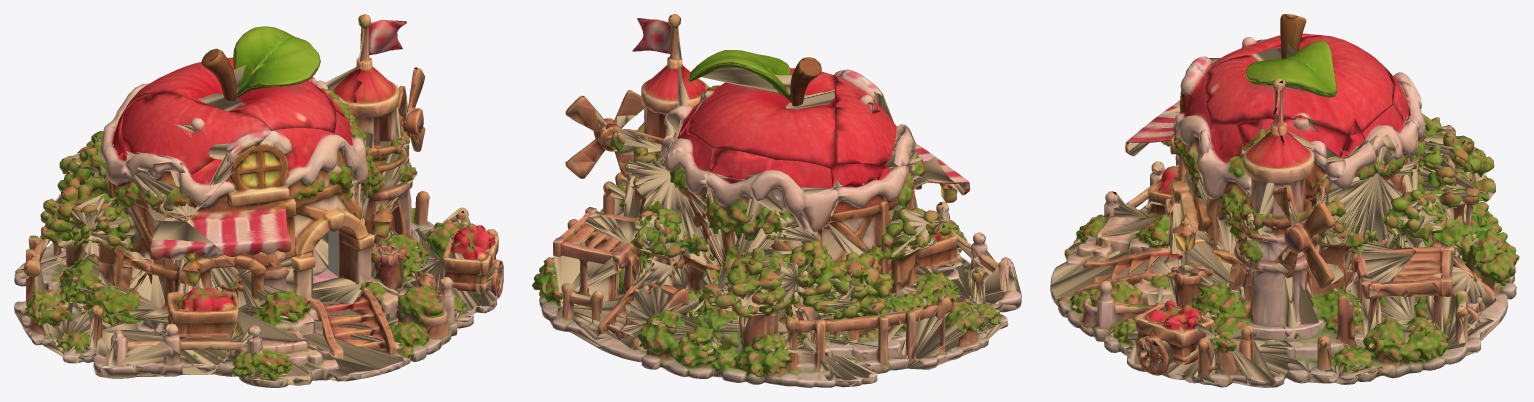
Rendered from HOB_BLD_AppleWorkshop_Fractured.fbx.
3 views of the same model, side by side, from view 1: azimuth 30°, elevation 25°; view 2: azimuth 150°, elevation 25°; view 3: azimuth 270°, elevation 25° (orthographic). The views are drawn at different scales.
Parts seen in each view (by area): view 1: HOB_BLD_AppleWorkshop_Frag_18, HOB_BLD_AppleWorkshop_Frag_17, HOB_BLD_AppleWorkshop_Frag_14, HOB_BLD_AppleWorkshop_Frag_07, HOB_BLD_AppleWorkshop_Frag_10, HOB_BLD_AppleWorkshop_Frag_15, HOB_BLD_AppleWorkshop_Frag_12, HOB_BLD_AppleWorkshop_Frag_23, HOB_BLD_AppleWorkshop_Frag_09, HOB_BLD_AppleWorkshop_Frag_29, HOB_BLD_AppleWorkshop_Frag_24, HOB_BLD_AppleWorkshop_Frag_03 (+8 smaller); view 2: HOB_BLD_AppleWorkshop_Frag_14, HOB_BLD_AppleWorkshop_Frag_01, HOB_BLD_AppleWorkshop_Frag_22, HOB_BLD_AppleWorkshop_Frag_23, HOB_BLD_AppleWorkshop_Frag_12, HOB_BLD_AppleWorkshop_Frag_02, HOB_BLD_AppleWorkshop_Frag_27, HOB_BLD_AppleWorkshop_Frag_21, HOB_BLD_AppleWorkshop_Frag_17, HOB_BLD_AppleWorkshop_Frag_16, HOB_BLD_AppleWorkshop_Frag_13, HOB_BLD_AppleWorkshop_Frag_11 (+9 smaller); view 3: HOB_BLD_AppleWorkshop_Frag_14, HOB_BLD_AppleWorkshop_Frag_12, HOB_BLD_AppleWorkshop_Frag_09, HOB_BLD_AppleWorkshop_Frag_00, HOB_BLD_AppleWorkshop_Frag_20, HOB_BLD_AppleWorkshop_Frag_19, HOB_BLD_AppleWorkshop_Frag_06, HOB_BLD_AppleWorkshop_Frag_08, HOB_BLD_AppleWorkshop_Frag_21, HOB_BLD_AppleWorkshop_Frag_15, HOB_BLD_AppleWorkshop_Frag_02, HOB_BLD_AppleWorkshop_Frag_10 (+12 smaller).
Boxes of the visible parts, x1,y1,x2,y2 form: HOB_BLD_AppleWorkshop_Frag_18: [187, 128, 345, 270]; HOB_BLD_AppleWorkshop_Frag_17: [121, 92, 272, 221]; HOB_BLD_AppleWorkshop_Frag_14: [123, 26, 336, 132]; HOB_BLD_AppleWorkshop_Frag_07: [144, 221, 243, 374]; HOB_BLD_AppleWorkshop_Frag_10: [236, 250, 402, 374]; HOB_BLD_AppleWorkshop_Frag_15: [352, 252, 473, 366]; HOB_BLD_AppleWorkshop_Frag_12: [311, 14, 424, 158]; HOB_BLD_AppleWorkshop_Frag_23: [32, 112, 155, 264]; HOB_BLD_AppleWorkshop_Frag_09: [335, 111, 417, 237]; HOB_BLD_AppleWorkshop_Frag_29: [215, 325, 381, 387]; HOB_BLD_AppleWorkshop_Frag_24: [48, 258, 165, 327]; HOB_BLD_AppleWorkshop_Frag_03: [77, 306, 205, 378]; HOB_BLD_AppleWorkshop_Frag_14: [686, 50, 835, 168]; HOB_BLD_AppleWorkshop_Frag_01: [791, 225, 920, 386]; HOB_BLD_AppleWorkshop_Frag_22: [714, 160, 838, 321]; HOB_BLD_AppleWorkshop_Frag_23: [828, 163, 951, 310]; HOB_BLD_AppleWorkshop_Frag_12: [565, 14, 719, 162]; HOB_BLD_AppleWorkshop_Frag_02: [549, 224, 644, 350]; HOB_BLD_AppleWorkshop_Frag_27: [701, 148, 802, 295]; HOB_BLD_AppleWorkshop_Frag_21: [612, 134, 712, 266]; HOB_BLD_AppleWorkshop_Frag_17: [834, 69, 927, 180]; HOB_BLD_AppleWorkshop_Frag_16: [713, 314, 850, 387]; HOB_BLD_AppleWorkshop_Frag_13: [906, 269, 1008, 369]; HOB_BLD_AppleWorkshop_Frag_11: [604, 294, 720, 378]; HOB_BLD_AppleWorkshop_Frag_14: [1204, 14, 1394, 135]; HOB_BLD_AppleWorkshop_Frag_12: [1236, 78, 1349, 274]; HOB_BLD_AppleWorkshop_Frag_09: [1172, 124, 1282, 287]; HOB_BLD_AppleWorkshop_Frag_00: [1306, 117, 1416, 303]; HOB_BLD_AppleWorkshop_Frag_20: [1281, 251, 1382, 383]; HOB_BLD_AppleWorkshop_Frag_19: [1202, 261, 1310, 387]; HOB_BLD_AppleWorkshop_Frag_06: [1127, 304, 1250, 387]; HOB_BLD_AppleWorkshop_Frag_08: [1337, 281, 1464, 384]; HOB_BLD_AppleWorkshop_Frag_21: [1362, 105, 1454, 253]; HOB_BLD_AppleWorkshop_Frag_15: [1054, 266, 1191, 355]; HOB_BLD_AppleWorkshop_Frag_02: [1379, 251, 1501, 356]; HOB_BLD_AppleWorkshop_Frag_10: [1050, 198, 1182, 302].
Size of the model in its own units: 1988 by 1154 by 1865.
